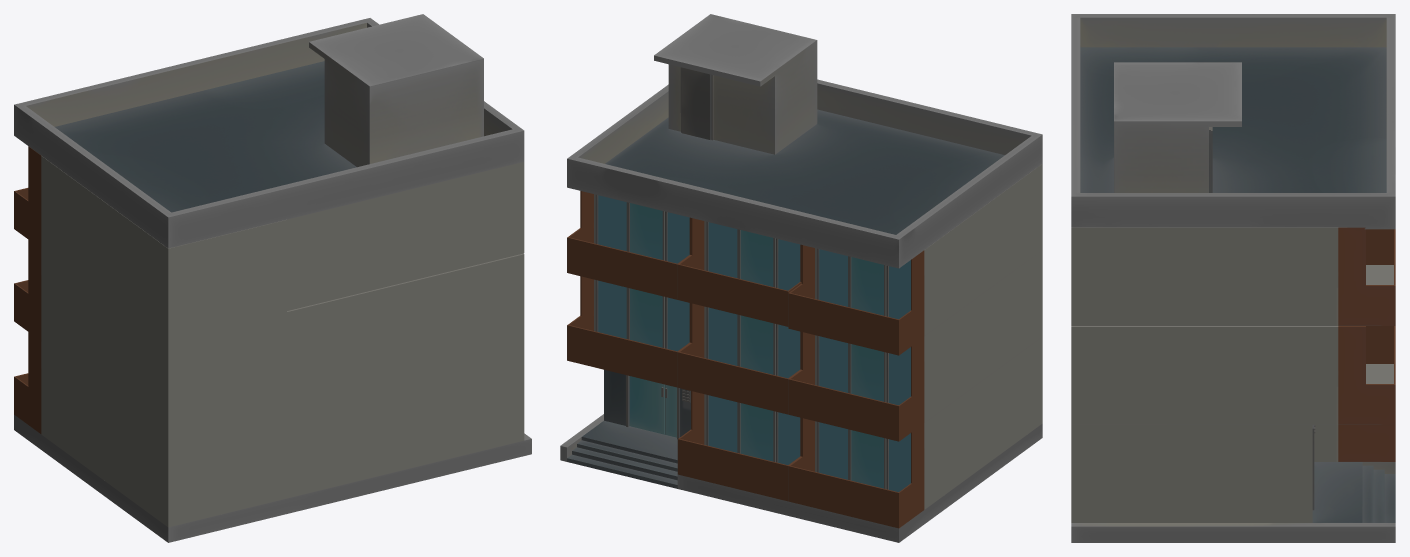
Rendered from condominium_Three.gltf.
3 views of the same model, side by side, from view 1: azimuth 30°, elevation 25°; view 2: azimuth 150°, elevation 25°; view 3: azimuth 270°, elevation 25° (orthographic). The views are drawn at different scales.
Visible parts, largest first — view 1: Apartment_House_Roof, Apartment_House_Room.008, Apartment_House_Room.002, Apartment_House_Room.005, Apartment_House_Room.004, Apartment_House_Room.003, Apartment_House_Enterence, Apartment_House_Room.001, Apartment_House_Room.007, Apartment_House_Room.006, Apartment_House_Base; view 2: Apartment_House_Roof, Apartment_House_Room.002, Apartment_House_Room.008, Apartment_House_Room.005, Apartment_House_Room.003, Apartment_House_Room.004, Apartment_House_Room.001, Apartment_House_Room.006, Apartment_House_Room.007, Apartment_House_Enterence, Apartment_House_Base; view 3: Apartment_House_Roof, Apartment_House_Room.004, Apartment_House_Room.007, Apartment_House_Enterence, Apartment_House_Base, Apartment_House_Room.001.
Part boxes in pixels (x1,y1,x2,y2): Apartment_House_Roof: [14, 14, 524, 248]; Apartment_House_Room.008: [14, 146, 286, 341]; Apartment_House_Room.002: [14, 332, 286, 527]; Apartment_House_Room.005: [14, 240, 286, 434]; Apartment_House_Room.004: [405, 253, 524, 376]; Apartment_House_Room.003: [287, 282, 405, 405]; Apartment_House_Enterence: [405, 347, 524, 469]; Apartment_House_Room.001: [287, 376, 405, 498]; Apartment_House_Room.007: [405, 162, 524, 281]; Apartment_House_Room.006: [287, 190, 405, 310]; Apartment_House_Base: [14, 415, 531, 542]; Apartment_House_Roof: [567, 14, 1042, 268]; Apartment_House_Room.002: [788, 337, 1042, 528]; Apartment_House_Room.008: [788, 164, 1042, 355]; Apartment_House_Room.005: [788, 250, 1042, 441]; Apartment_House_Room.003: [677, 303, 801, 414]; Apartment_House_Room.004: [567, 276, 690, 387]; Apartment_House_Room.001: [677, 391, 801, 501]; Apartment_House_Room.006: [677, 218, 801, 326]; Apartment_House_Room.007: [567, 191, 690, 299]; Apartment_House_Enterence: [567, 369, 690, 488]; Apartment_House_Base: [560, 414, 1042, 542]; Apartment_House_Roof: [1071, 14, 1395, 229]; Apartment_House_Room.004: [1071, 326, 1395, 424]; Apartment_House_Room.007: [1071, 227, 1395, 325]; Apartment_House_Enterence: [1071, 425, 1395, 522]; Apartment_House_Base: [1071, 462, 1395, 542]; Apartment_House_Room.001: [1314, 425, 1395, 461].
Bounding box in the file's own units: 12.25 × 12.48 × 9.
2 materials, 2 textured.
